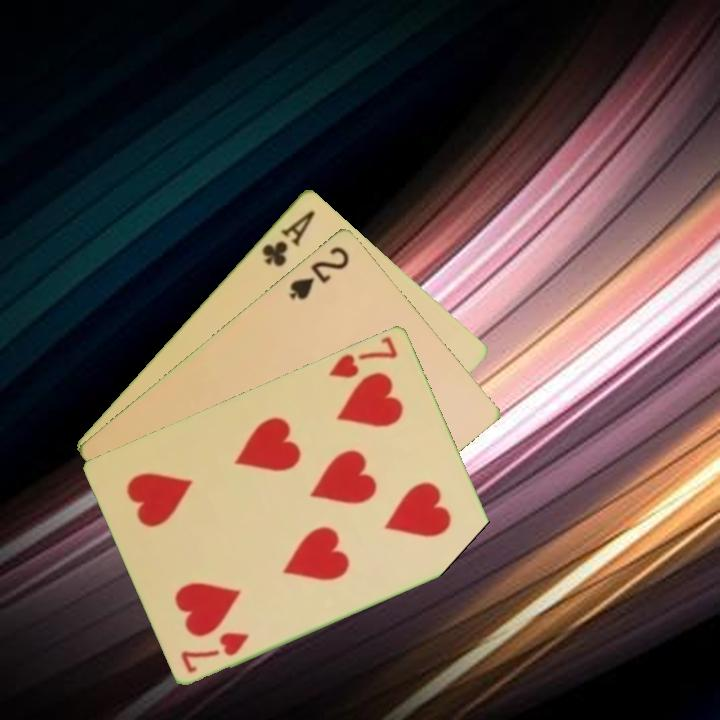2s: (285, 242, 353, 302)
7h: (325, 332, 401, 381), (177, 628, 252, 676)
Ac: (258, 205, 318, 269)
